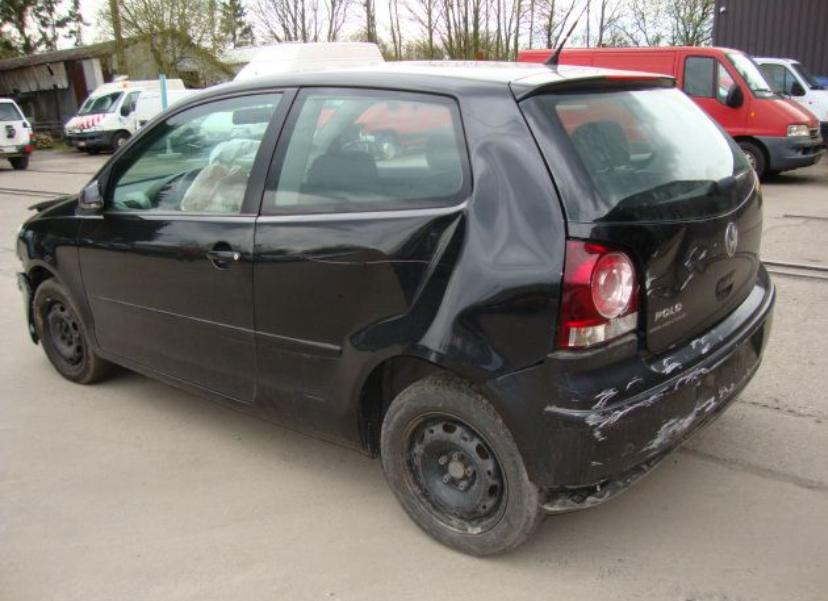Back-bumper: (479, 261, 776, 512)
Back-wheel: (380, 375, 542, 557)
Back-window: (261, 87, 473, 216)
Back-windshield: (519, 87, 755, 223)
Fender: (17, 198, 99, 348)
Front-bumper: (14, 273, 38, 344)
Front-door: (77, 88, 296, 404)
Front-wheel: (32, 280, 120, 384)
Front-window: (106, 94, 294, 214)
Hood: (28, 195, 76, 212)
Mirror: (79, 180, 105, 209)
Quarter-panel: (254, 203, 567, 456)
Rocker-panel: (95, 347, 257, 417)
Roof: (286, 60, 598, 83)
Tail-light: (556, 238, 643, 350)
Trunk: (511, 67, 764, 349)
